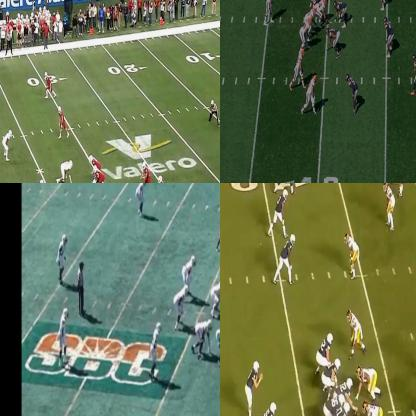CENTER: (340, 377, 358, 413), (317, 0, 331, 27)
DB: (347, 232, 359, 280), (57, 311, 67, 355), (57, 233, 68, 272), (387, 183, 396, 226), (134, 183, 145, 210), (411, 53, 415, 96), (396, 183, 407, 193)
LB: (150, 323, 162, 380), (172, 286, 187, 322), (180, 254, 192, 286), (346, 74, 356, 112), (383, 17, 392, 59), (2, 130, 12, 161), (375, 0, 388, 10)
QB: (245, 363, 263, 415), (266, 0, 274, 27), (142, 161, 152, 182)
SKILL: (278, 235, 295, 282), (273, 188, 288, 236), (305, 74, 319, 115), (294, 47, 303, 86), (56, 106, 67, 135), (46, 71, 56, 100), (260, 402, 277, 415), (156, 173, 169, 182)
